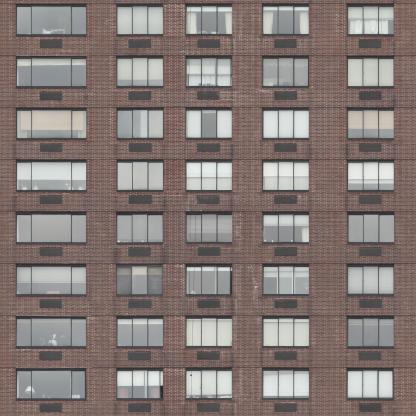Building Outline: (0, 0, 416, 416)
Floor: (0, 0, 415, 48), (1, 210, 415, 256), (1, 107, 415, 153), (1, 55, 415, 101), (1, 315, 415, 360), (1, 263, 415, 308), (1, 159, 415, 204), (1, 366, 415, 410)
Floor Slab: (0, 0, 416, 416), (1, 49, 415, 55), (1, 410, 415, 416), (1, 360, 415, 366), (1, 308, 415, 314), (1, 257, 415, 263), (1, 204, 415, 210), (1, 153, 415, 159), (1, 101, 415, 107)
Window: (17, 368, 86, 400), (17, 316, 86, 348), (17, 264, 86, 296), (17, 212, 86, 244), (17, 160, 86, 192), (17, 108, 86, 140), (17, 56, 86, 88), (17, 4, 86, 36), (348, 367, 394, 399), (117, 367, 163, 399), (186, 367, 232, 399), (263, 367, 309, 399), (348, 316, 394, 348), (117, 316, 163, 348), (186, 316, 232, 348), (263, 316, 309, 348), (348, 263, 394, 295), (117, 263, 163, 295), (186, 263, 232, 295), (263, 263, 309, 295), (348, 212, 394, 244), (117, 212, 163, 244), (186, 212, 232, 244), (263, 212, 309, 244), (348, 160, 394, 192), (117, 160, 163, 192), (186, 160, 232, 192), (263, 160, 309, 192), (348, 108, 394, 140), (117, 108, 163, 140), (186, 108, 232, 140), (263, 108, 309, 140), (348, 56, 394, 88), (117, 56, 163, 88), (186, 56, 232, 88), (263, 56, 309, 88), (348, 4, 394, 36), (117, 4, 163, 36), (186, 4, 232, 36), (263, 4, 309, 36)
